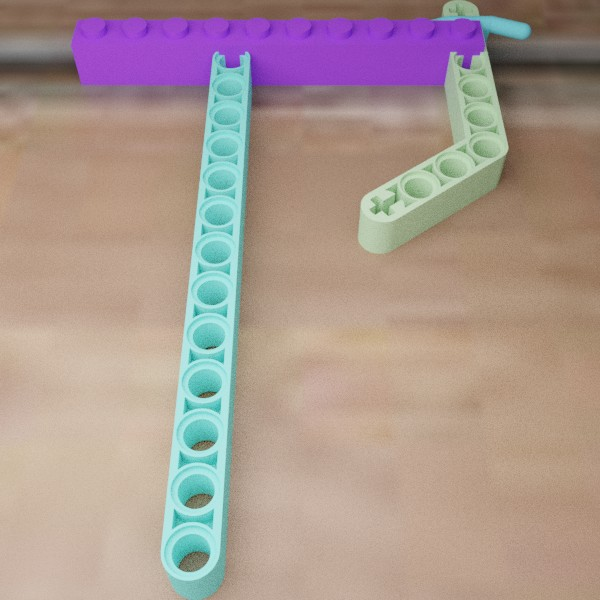lego: (160, 46, 252, 600), (357, 0, 508, 253), (70, 17, 485, 85), (410, 15, 531, 57)
